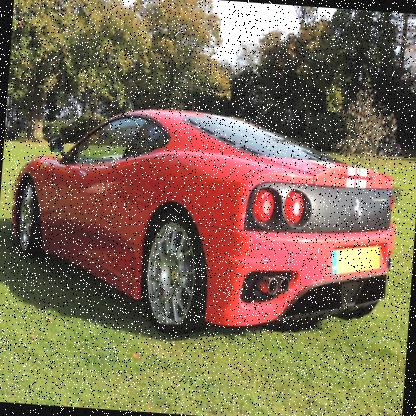Car: (7, 91, 398, 340)
